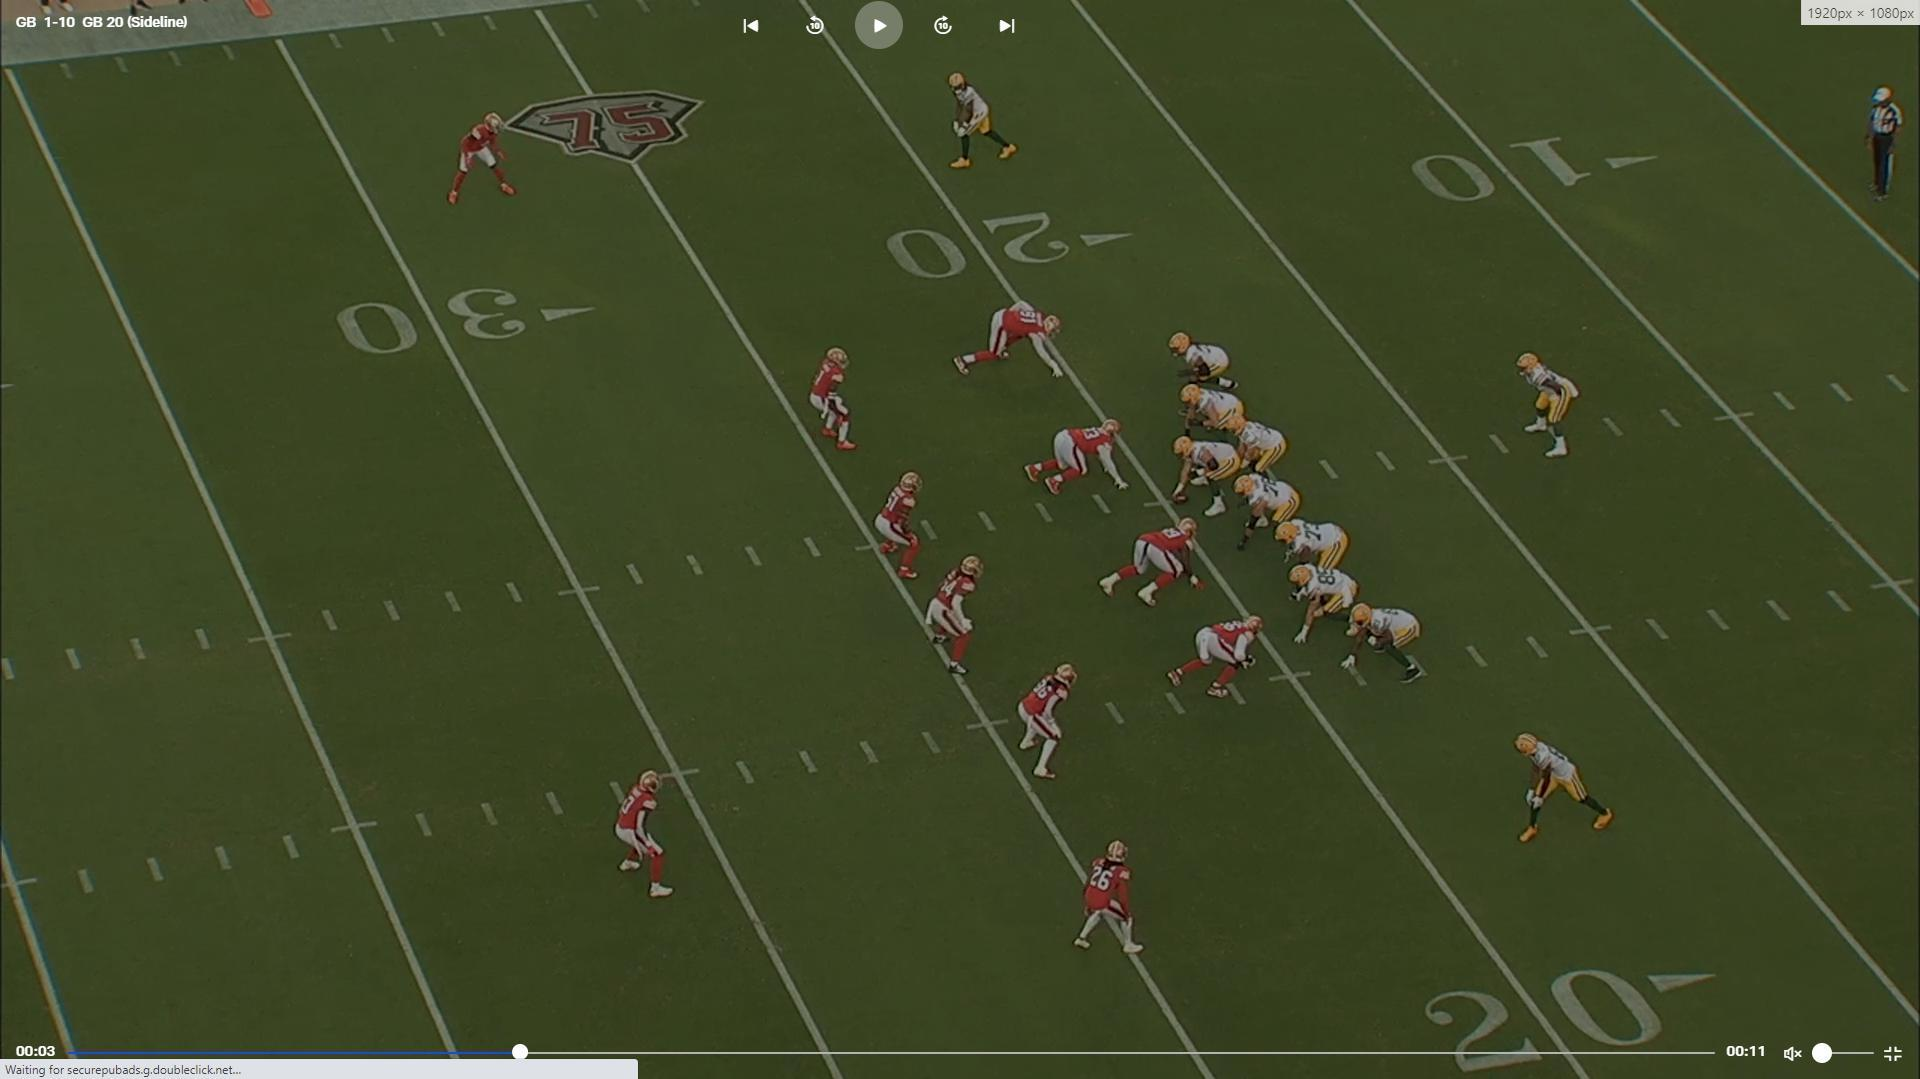player: (1511, 729, 1623, 850), (1098, 518, 1210, 610), (1068, 838, 1149, 963), (955, 300, 1069, 385), (1165, 612, 1268, 705), (612, 765, 678, 906), (1026, 420, 1132, 498), (944, 67, 1019, 176), (1021, 663, 1085, 789), (447, 108, 523, 213), (929, 551, 988, 678), (1343, 601, 1431, 686), (1520, 351, 1585, 463), (1292, 563, 1372, 645), (1167, 435, 1246, 516), (873, 467, 926, 587), (1234, 470, 1309, 551), (1276, 513, 1351, 588), (814, 345, 863, 459), (1167, 329, 1242, 397), (1178, 384, 1254, 445), (1232, 417, 1292, 482)
ref: (1864, 83, 1908, 203)
